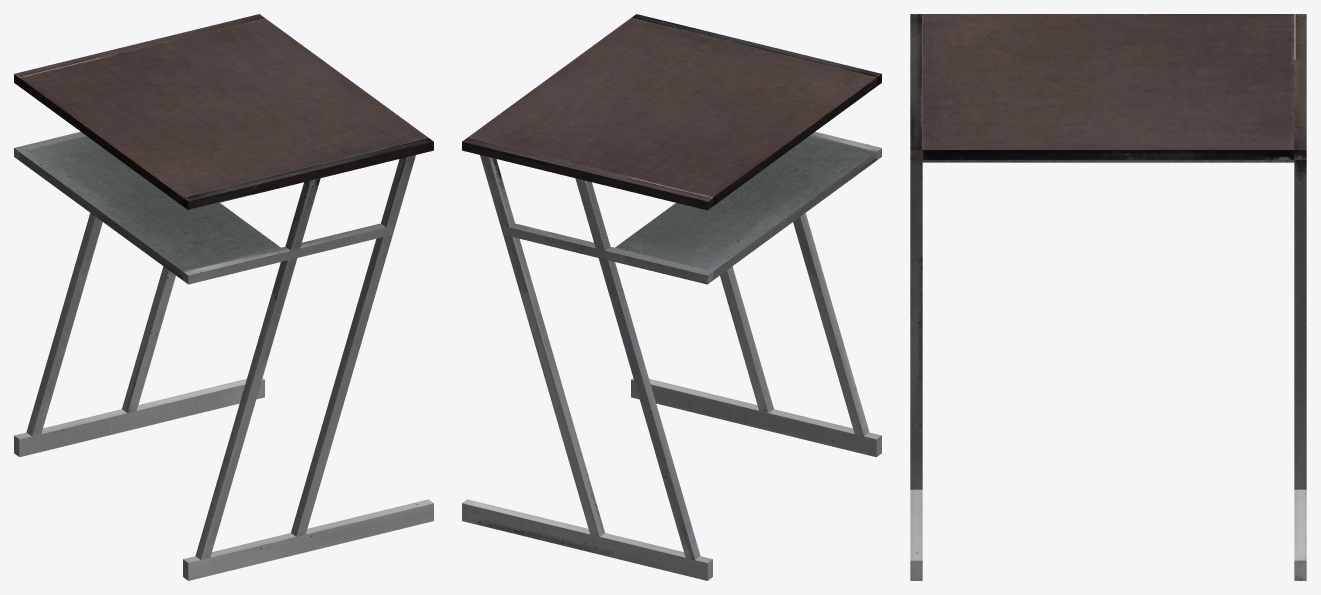
3 views of the same model, side by side, from view 1: azimuth 30°, elevation 25°; view 2: azimuth 150°, elevation 25°; view 3: azimuth 270°, elevation 25° (orthographic). The views are drawn at different scales.
Parts seen in each view (by area): view 1: Node; view 2: Node; view 3: Node.
Boxes of the visible parts, <box> form: Node: <box>14,14,433,580</box>; Node: <box>462,14,881,580</box>; Node: <box>910,14,1306,580</box>.
Size of the model in its own units: 0.474 by 0.7 by 0.5833.
1 material, 1 textured.
